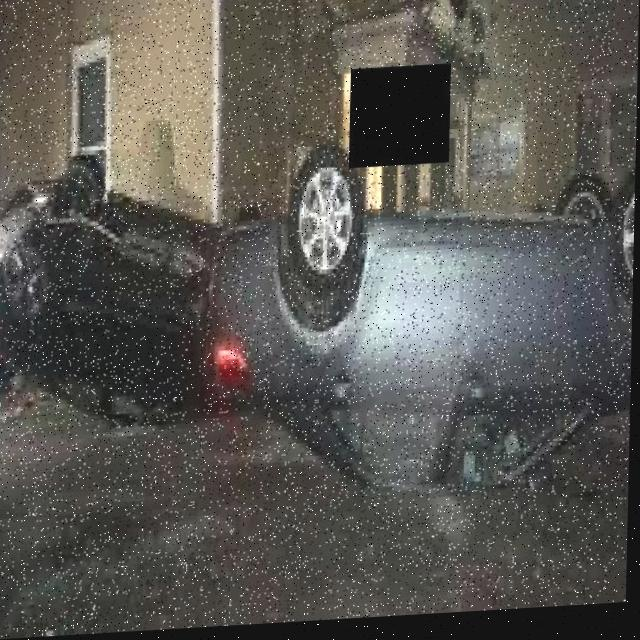multiple_accident: (0, 80, 640, 522)
